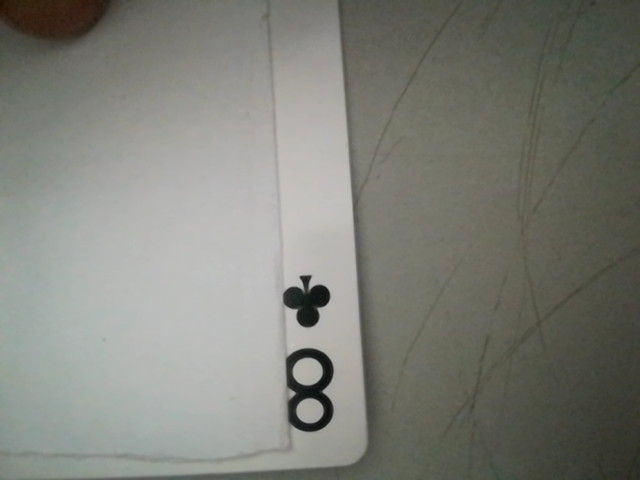mh 8: (269, 270, 362, 439)
